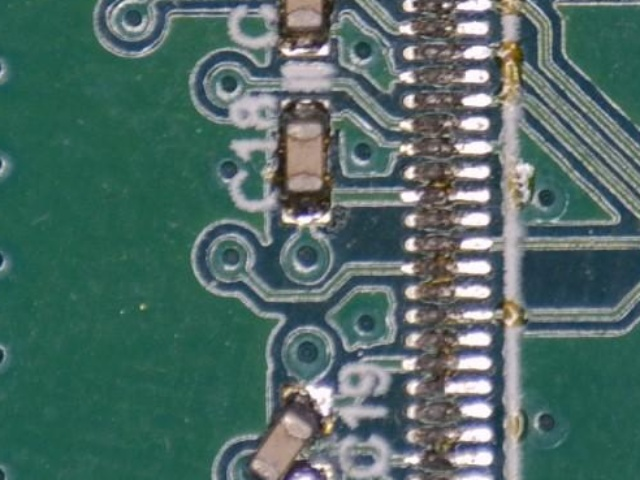pcb_defect: (248, 385, 333, 480)
